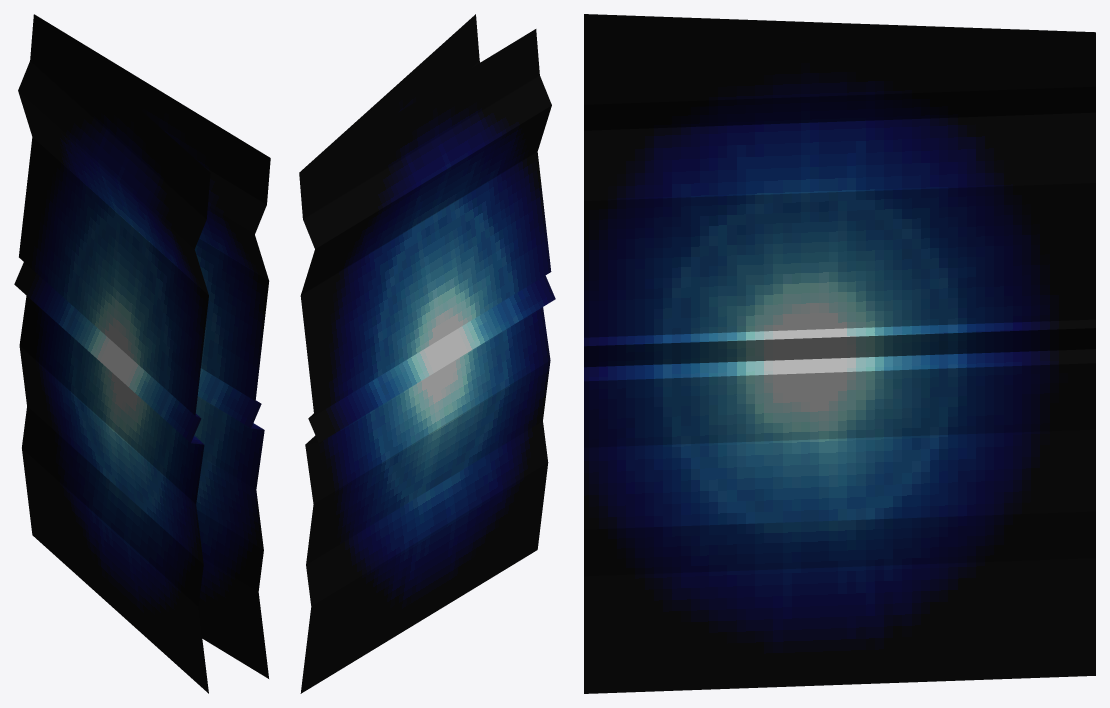
3 renders of one model, left to right at view 1: azimuth 30°, elevation 25°; view 2: azimuth 150°, elevation 25°; view 3: azimuth 270°, elevation 25°, orthographic. The views are drawn at different scales.
Visible parts, largest first — view 1: 4_1, 4_2; view 2: 4_1, 4_2; view 3: 4_2, 4_1.
Boxes of the visible parts, x1,y1,x2,y2 form: 4_1: (14, 14, 210, 693); 4_2: (34, 14, 270, 678); 4_1: (299, 29, 555, 693); 4_2: (299, 14, 480, 444); 4_2: (584, 32, 1095, 693); 4_1: (584, 14, 1094, 50).
Size of the model in its own units: 0.781 by 4.87 by 3.5.
Materials: 1 (1 with a texture image).
